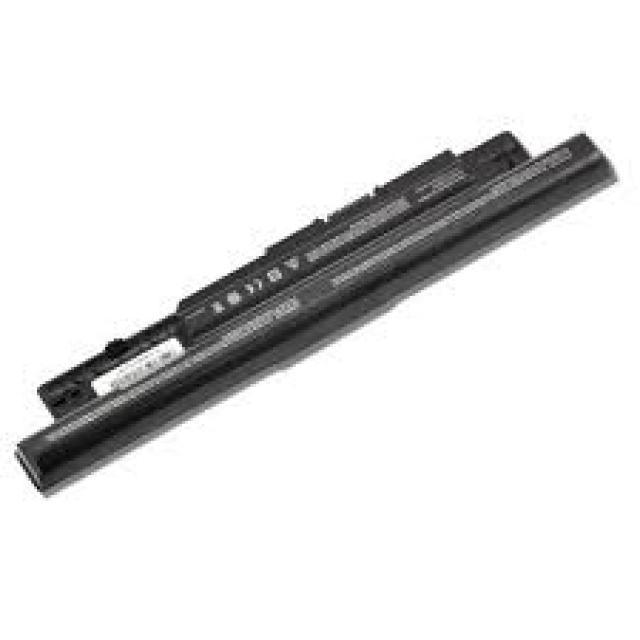battery: (13, 130, 621, 497)
